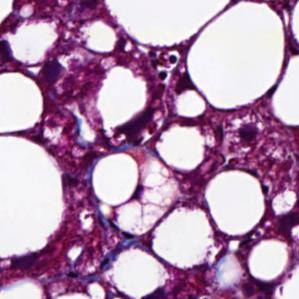inflammation: (232, 117, 265, 152), (149, 49, 182, 83)
